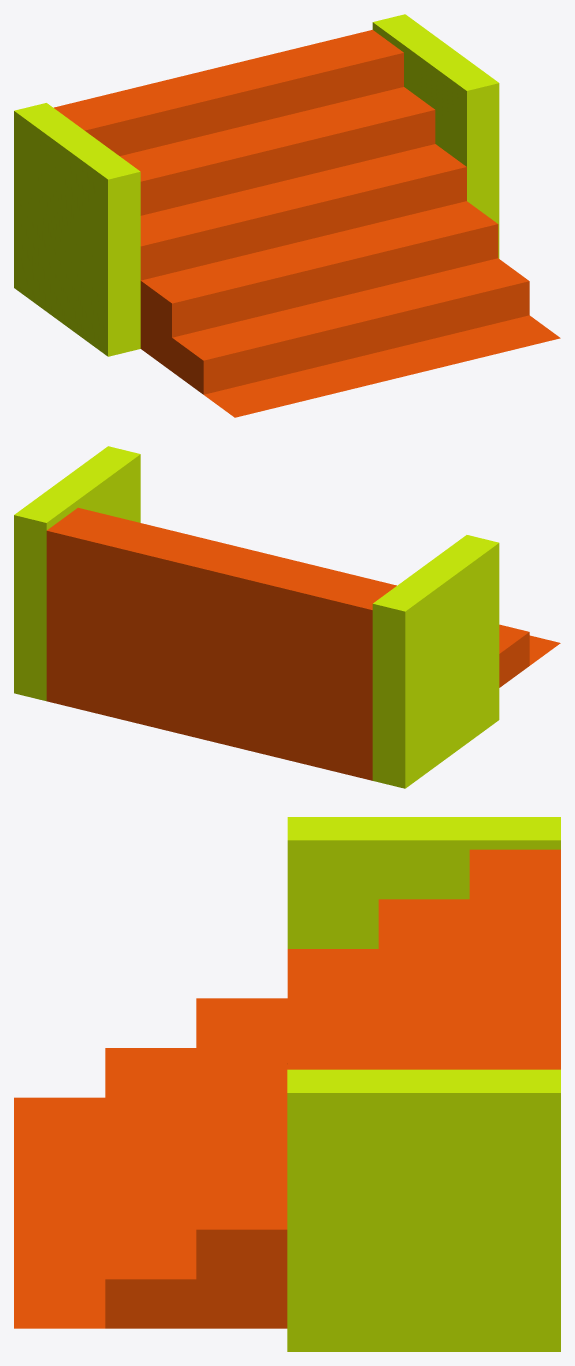
The picture shows the model from 3 angles, top to bottom: view 1: azimuth 30°, elevation 25°; view 2: azimuth 150°, elevation 25°; view 3: azimuth 270°, elevation 25°; orthographic projection. The views are drawn at different scales.
Parts seen in each view (by area): view 1: T_3_a_0; view 2: T_3_a_0; view 3: T_3_a_0.
Boxes of the visible parts, x1,y1,x2,y2 form: T_3_a_0: (14,14,560,417); T_3_a_0: (14,446,560,788); T_3_a_0: (14,817,560,1351).
Size of the model in its own units: 120 by 52.14 by 99.81.
